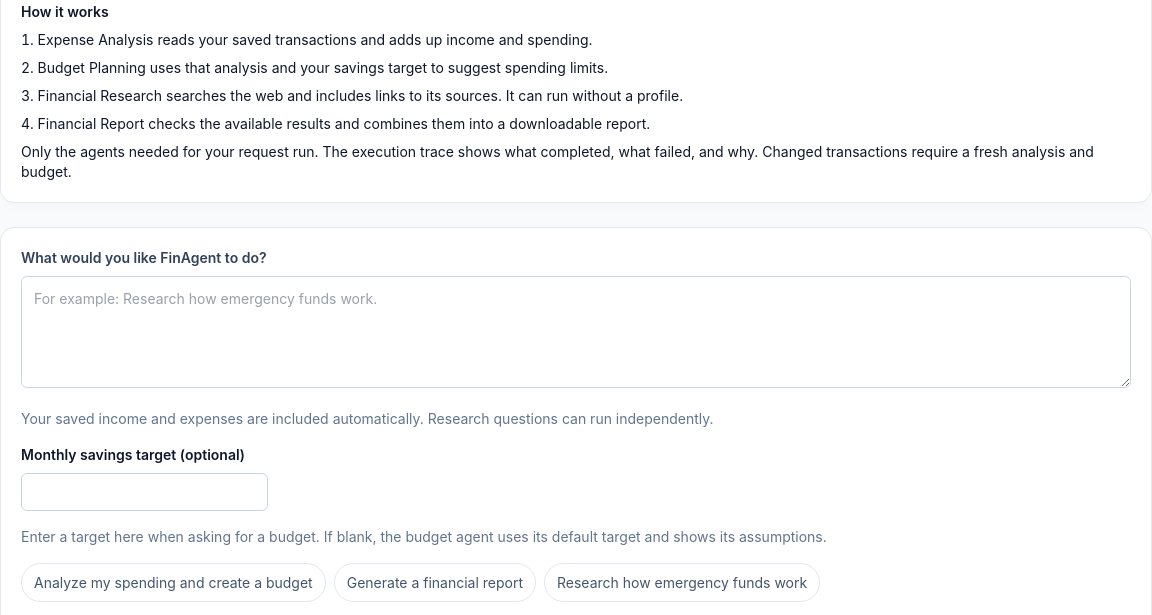
Test: Master Agent › shows loading while polling a running workflow
The image size is (1152, 615).
In the text box labelled "What would you like FinAgent to do?": x=576, y=332 [21,276,1131,388], type "Research emergency funds"
(page scrolled)
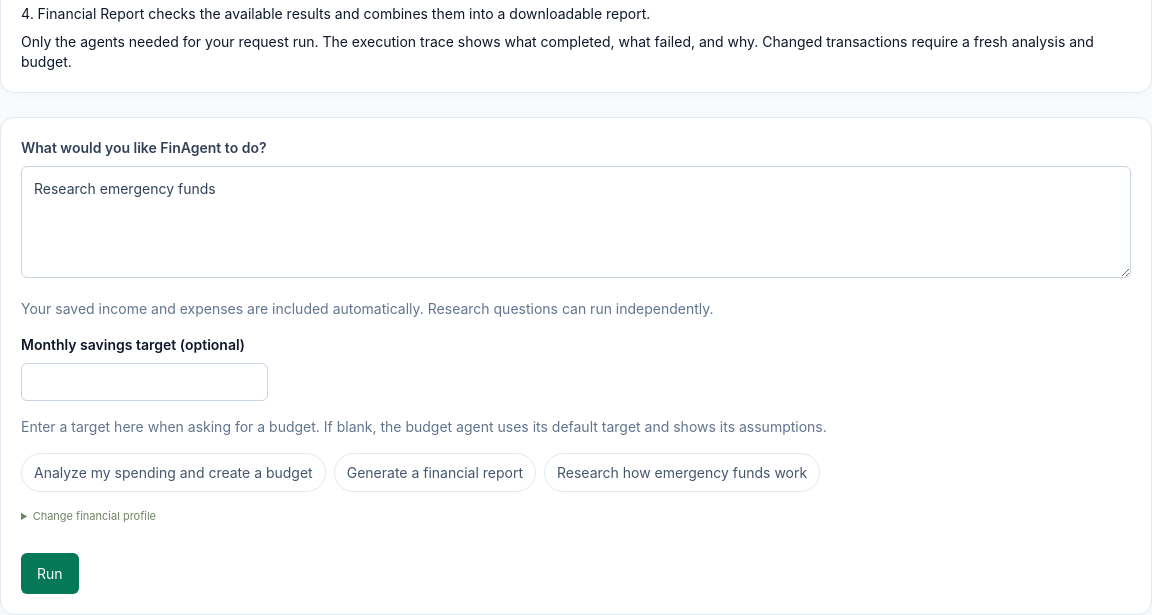
Click the button "Run": x=50, y=573 [21,552,79,594]
(page scrolled)
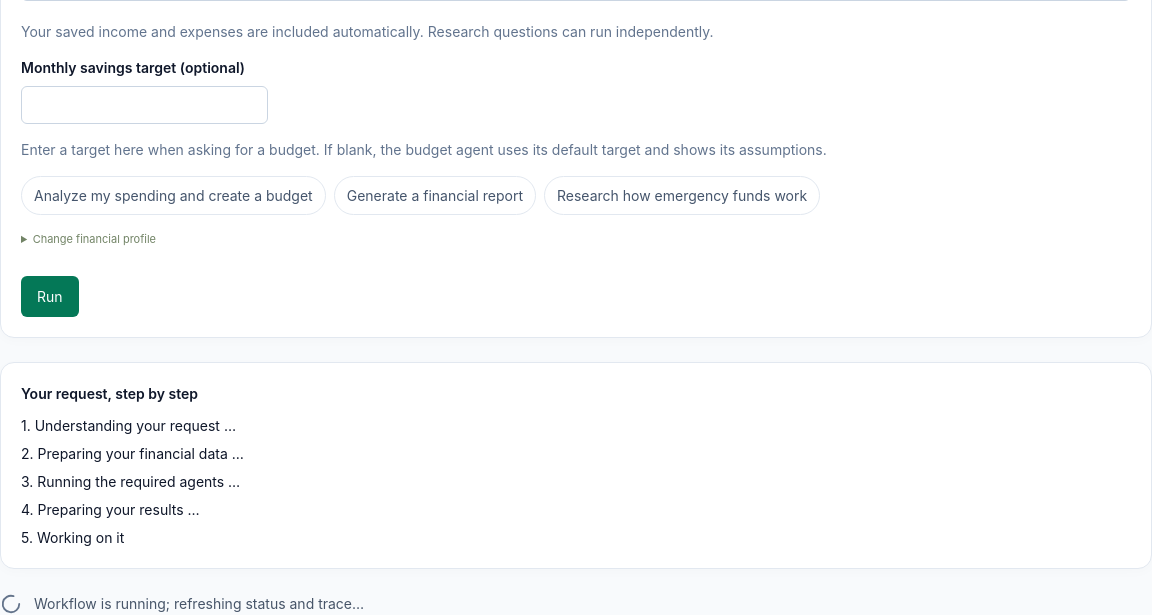
expect the text "Workflow is running; refreshing status and trace…" is shown: met, box [34,592,364,614]
